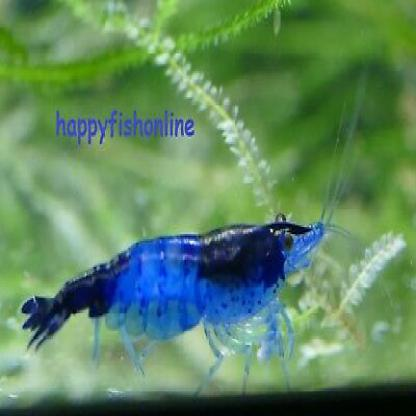shrimp: (19, 213, 335, 373)
